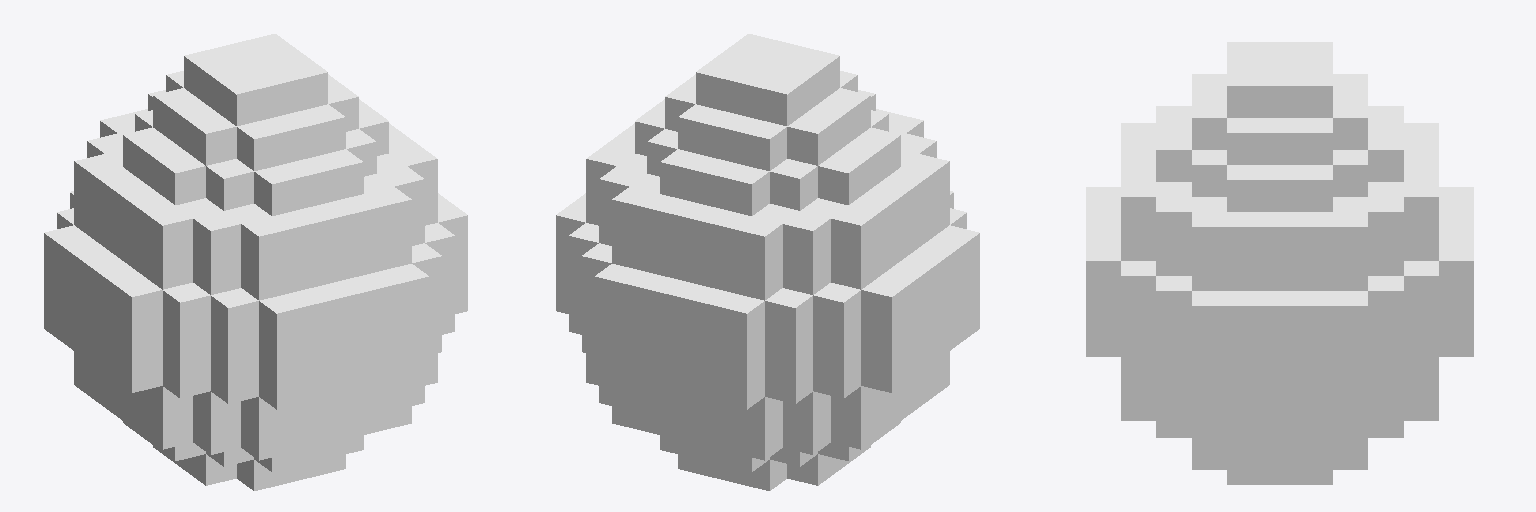
The model's file is Tamago.obj.
The picture shows the model from 3 angles: view 1: azimuth 30°, elevation 25°; view 2: azimuth 150°, elevation 25°; view 3: azimuth 270°, elevation 25°; orthographic projection.
Visible parts, largest first — view 1: object 1; view 2: object 1; view 3: object 1.
Boxes of the visible parts, x1=… form: object 1: x1=44, y1=34, x2=467, y2=490; object 1: x1=556, y1=34, x2=979, y2=490; object 1: x1=1086, y1=42, x2=1473, y2=484.
Bounding box in the file's own units: 1.1 × 1.2 × 1.1.